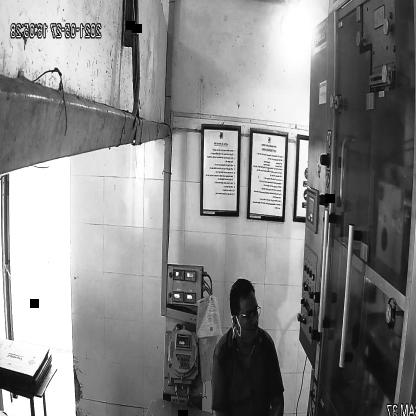goggles: (234, 301, 264, 325)
